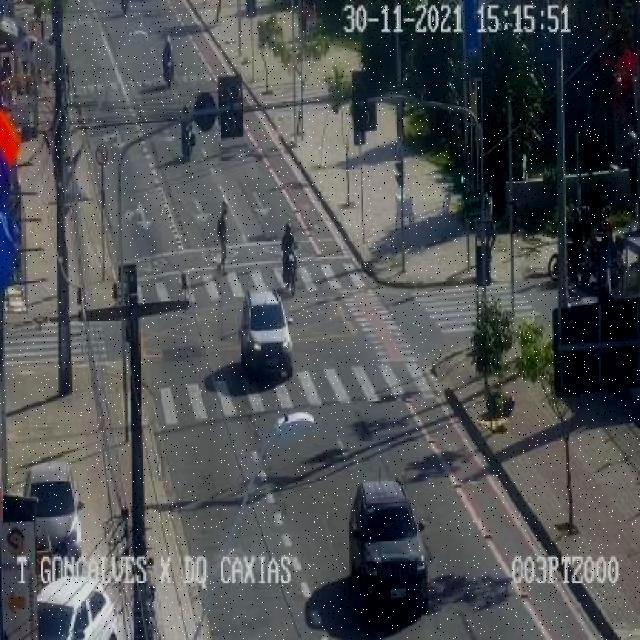Car: (346, 479, 431, 605), (24, 462, 84, 566), (238, 288, 295, 383), (34, 579, 118, 640)
Cycle: (548, 237, 593, 282), (280, 244, 300, 295), (161, 51, 175, 88)
